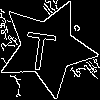T: (22, 22, 59, 72)
